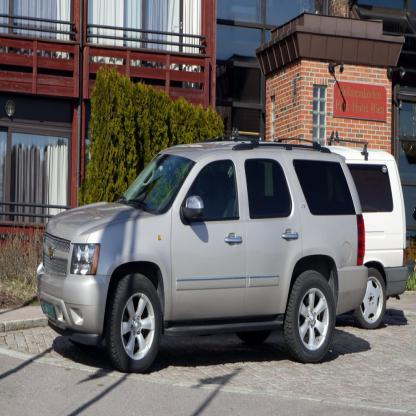Car: (36, 128, 369, 374), (297, 131, 408, 329)
